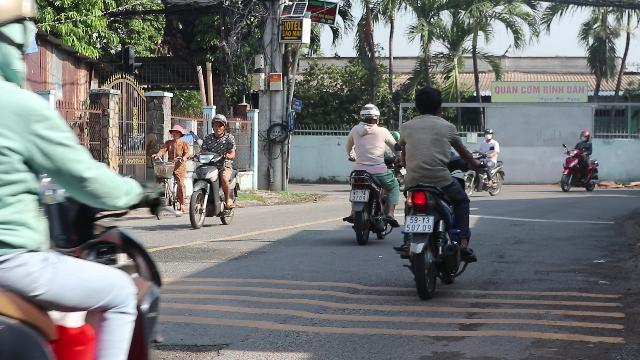helmet: (358, 103, 380, 124), (209, 114, 227, 134)
licenseplate: (405, 216, 433, 232), (349, 189, 368, 201)
motorcyclist: (0, 0, 174, 358), (394, 84, 480, 292), (340, 103, 400, 243), (186, 112, 242, 228)
nohelmet: (412, 86, 444, 118)
